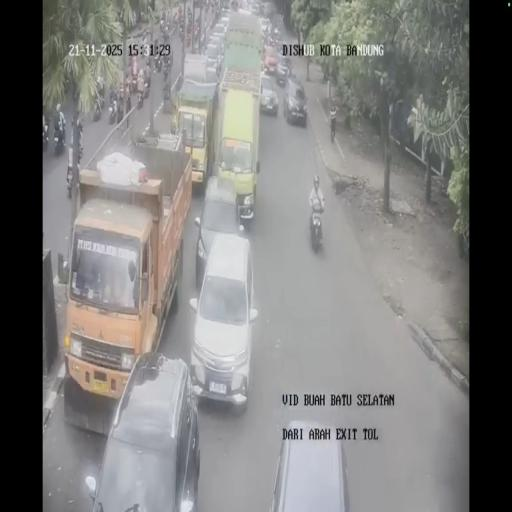3: (65, 145, 191, 418), (172, 57, 218, 193), (222, 8, 264, 84)
car: (266, 419, 350, 511), (194, 173, 246, 280), (283, 75, 307, 126), (203, 41, 224, 80), (260, 74, 279, 114), (275, 56, 289, 86), (264, 46, 278, 76), (212, 22, 228, 46), (262, 1, 274, 17), (260, 17, 270, 35), (248, 0, 260, 15)
truck: (310, 208, 324, 252), (53, 120, 65, 155), (66, 153, 74, 198), (92, 93, 104, 122), (76, 119, 84, 161), (140, 72, 150, 100), (108, 98, 118, 124), (116, 93, 124, 124), (123, 78, 131, 105), (130, 70, 138, 94), (179, 23, 187, 45), (162, 79, 170, 100), (330, 115, 336, 142), (166, 46, 173, 69), (154, 52, 162, 72), (143, 29, 151, 48), (42, 126, 48, 151), (171, 18, 179, 36), (194, 25, 200, 49), (159, 18, 166, 37), (137, 89, 143, 109), (145, 50, 151, 68), (201, 40, 207, 55)
